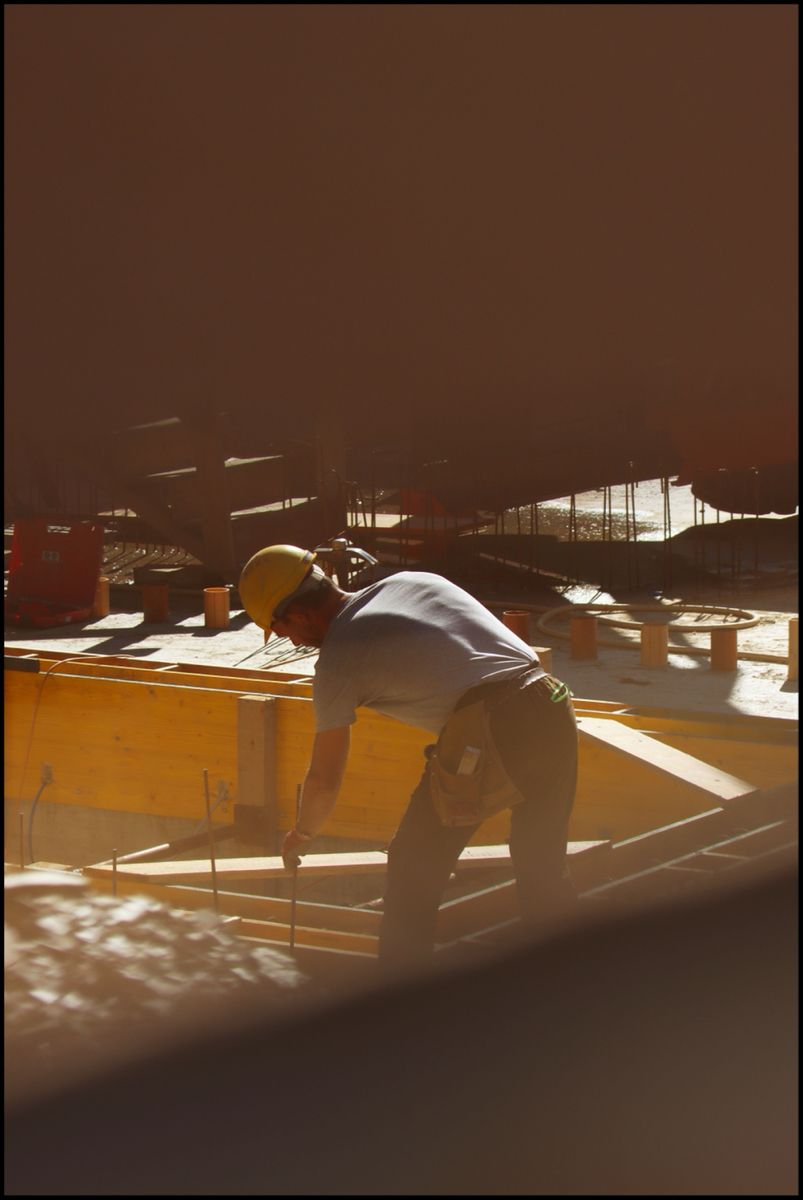hardhat: (227, 521, 324, 672)
no_safety_vest: (310, 553, 535, 769)
person: (205, 509, 614, 1121)
